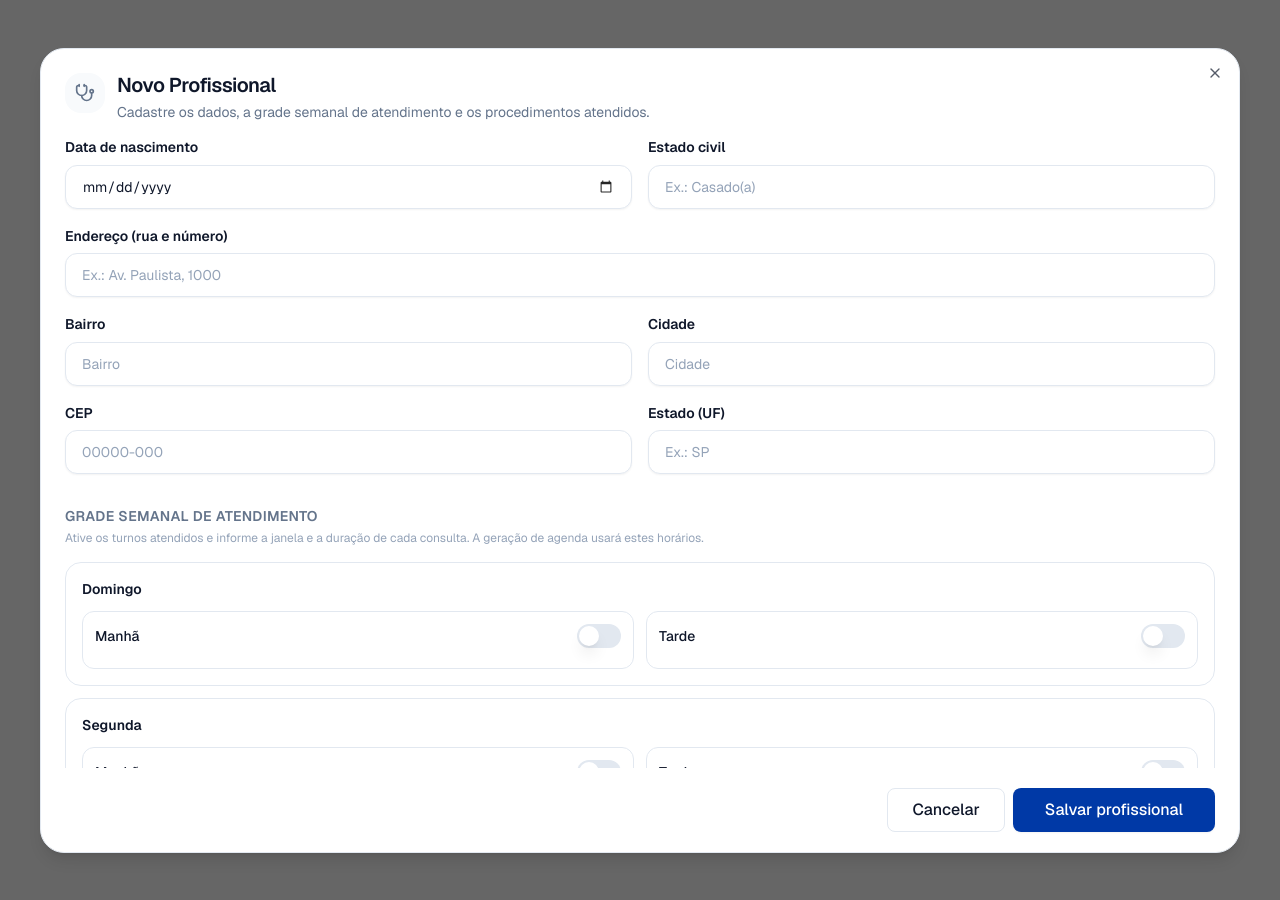
Test: ProfissionalModal — CEP › avisa sem travar quando o CEP não existe
(page scrolled)
Type "99999998" into the field with placeholder "00000-000".
click(348, 452); type("99999998")  # box [65,430,632,474]
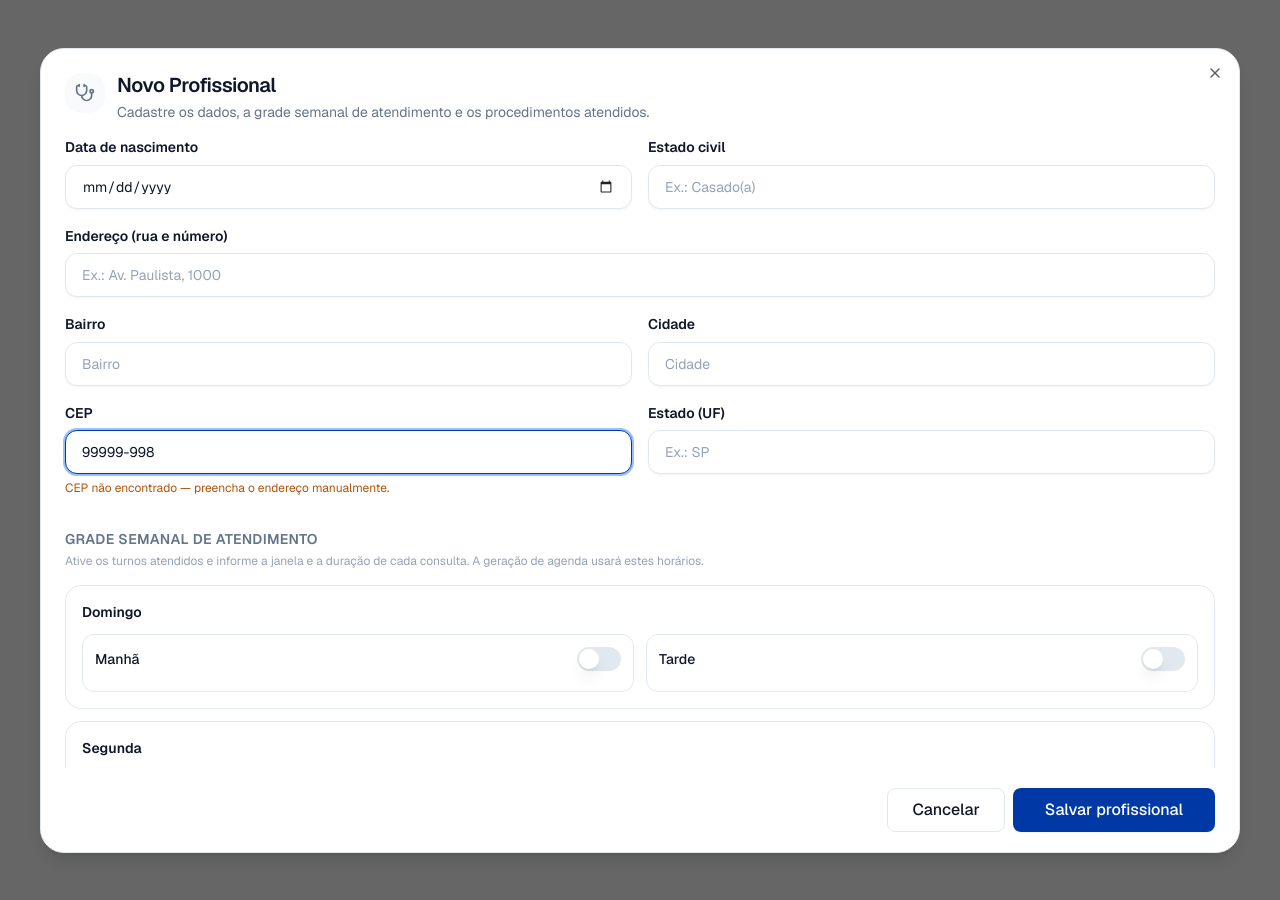
Check: the field with placeholder "Bairro" is empty, box [65,342,632,386]
Check: the text "CEP não encontrado — preencha o endereço manualmente." is shown, box [65,480,389,496]
